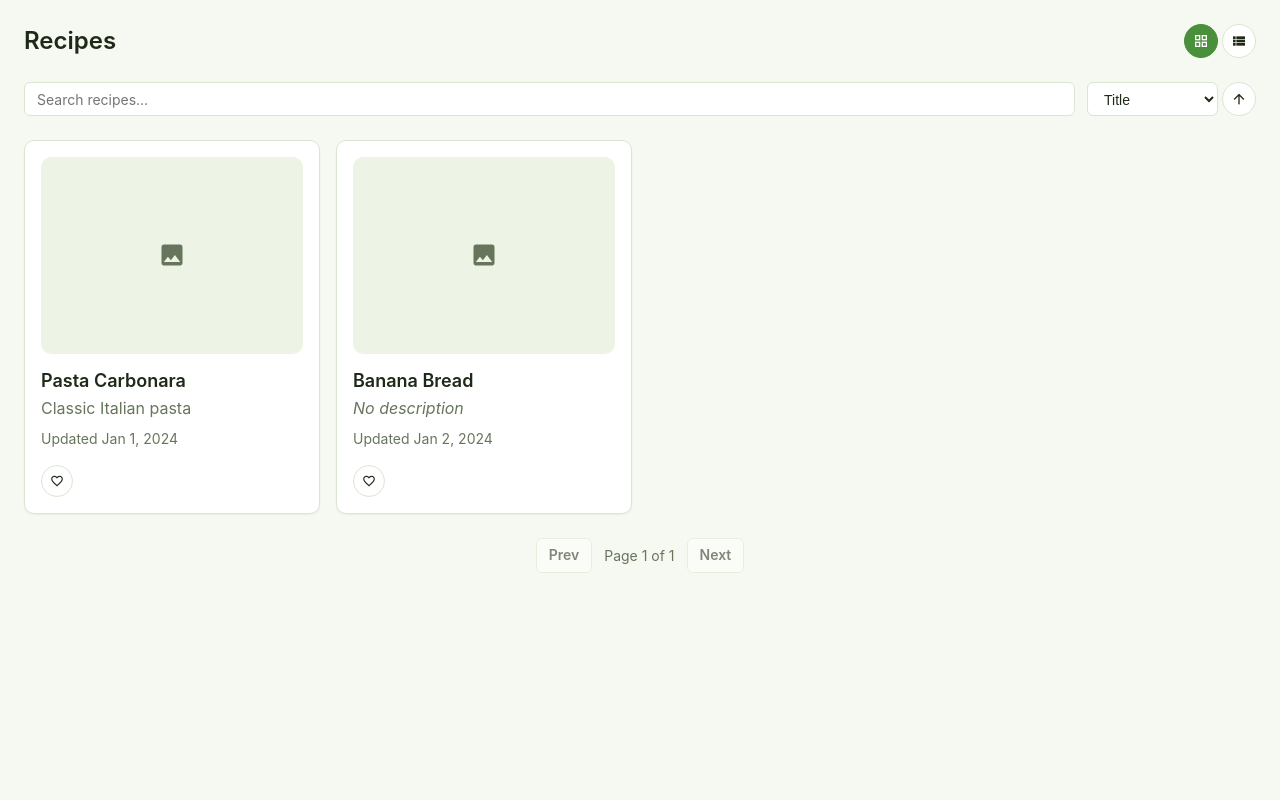
RecipeListComponent › view modes › switches to list markup on toggle click and persists the choice to localStorage, surviving a fresh component instance
Click the button named "List view".
click(1239, 41)  # box [1222,24,1256,58]
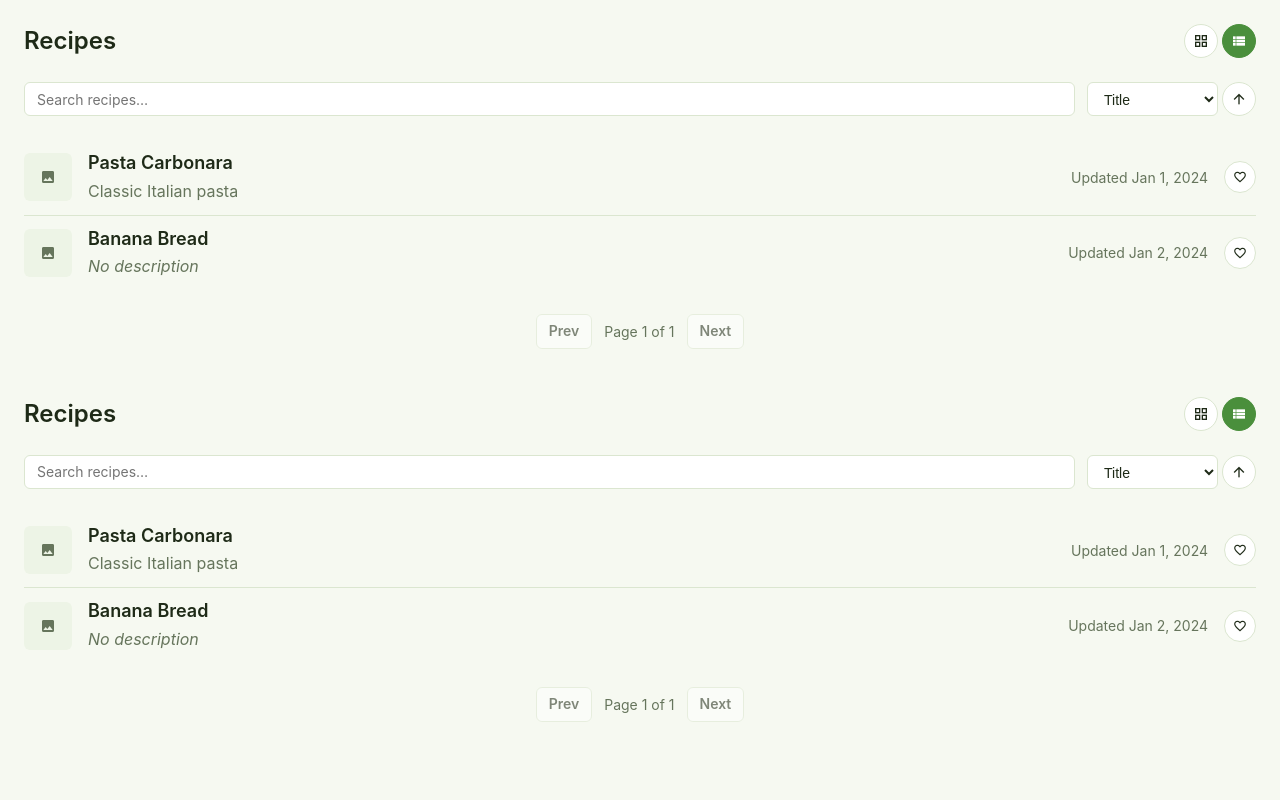
Now the element with class "recipe-grid" is gone
Now the 2nd element with class "recipe-list" is shown, box [24,513,1256,663]
